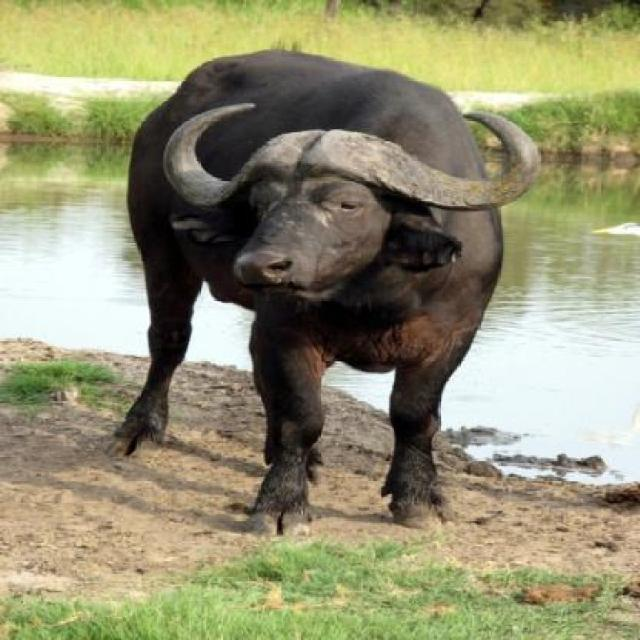buffalo: (127, 30, 459, 532)
